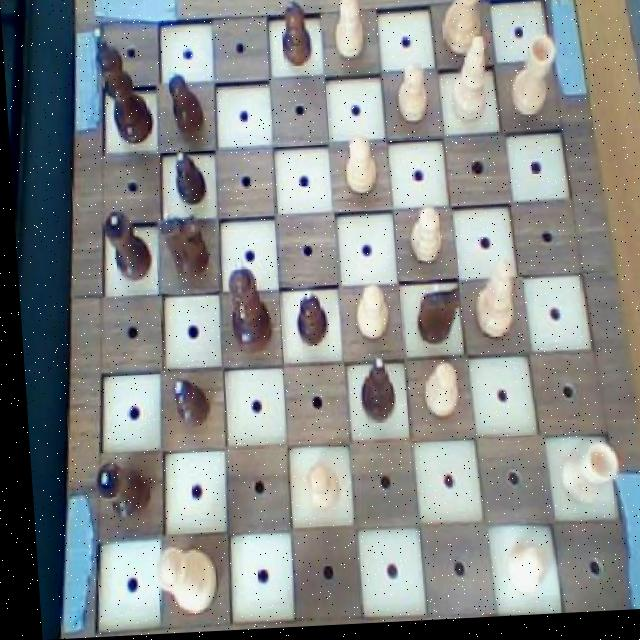bishop: (349, 357, 399, 431)
black-bishop: (91, 23, 154, 151)
black-king: (152, 208, 210, 283), (408, 283, 462, 353)
black-knight: (161, 67, 208, 143), (273, 0, 317, 72), (162, 374, 206, 437), (166, 148, 207, 213), (288, 292, 328, 353)
black-pawn: (220, 260, 272, 361)
black-queen: (85, 457, 146, 528), (98, 208, 152, 285)
black-rook: (443, 37, 497, 132), (465, 258, 517, 348)
white-bishop: (434, 0, 492, 65)
white-knight: (496, 541, 544, 607), (391, 61, 433, 134), (346, 283, 393, 348), (414, 361, 460, 427), (328, 0, 368, 70), (404, 209, 445, 276), (340, 135, 379, 205), (291, 461, 338, 518)
white-pawn: (146, 542, 213, 621)
white-queen: (501, 37, 562, 131), (546, 444, 615, 521)
